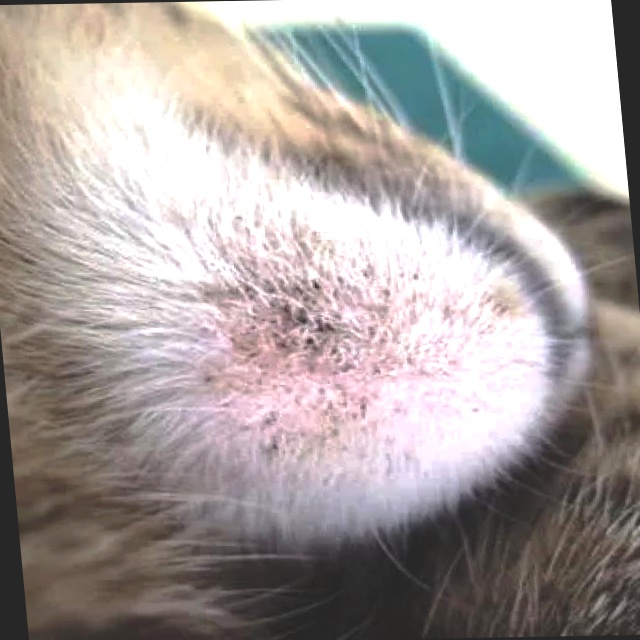acne: (175, 254, 443, 458)
